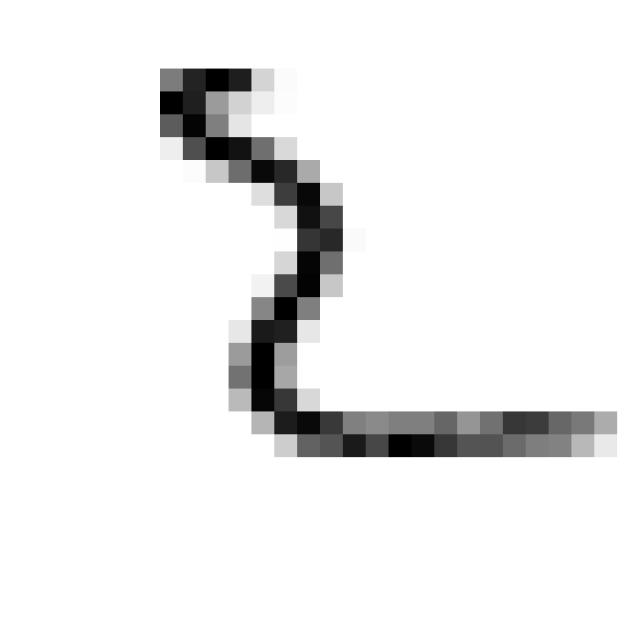4 -four-: (137, 44, 633, 488)
